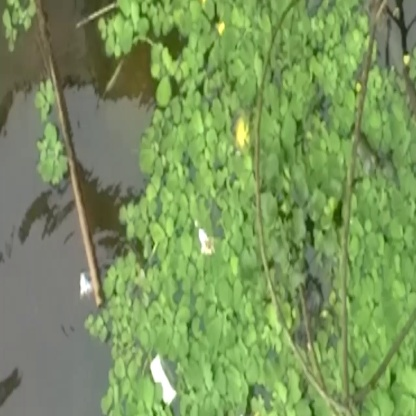branch: (31, 7, 111, 304)
milk-box: (146, 350, 182, 408)
